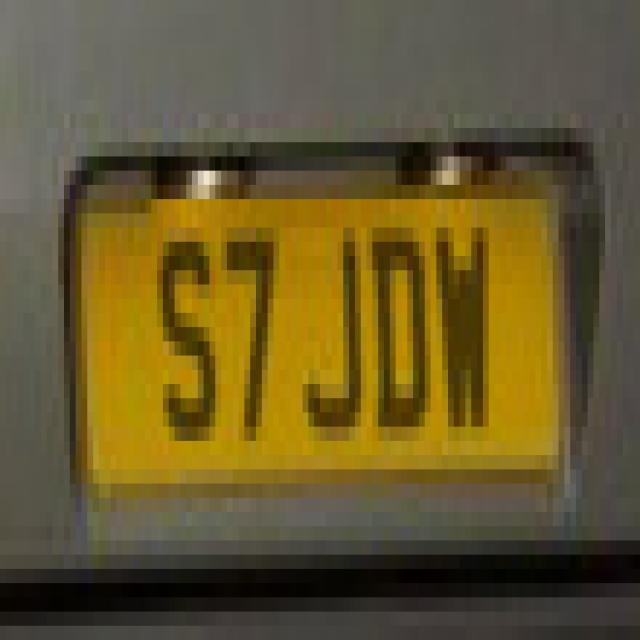7: (212, 199, 287, 472)
D: (369, 211, 428, 448)
J: (293, 200, 365, 447)
S: (151, 188, 225, 461)
W: (430, 205, 494, 461)
